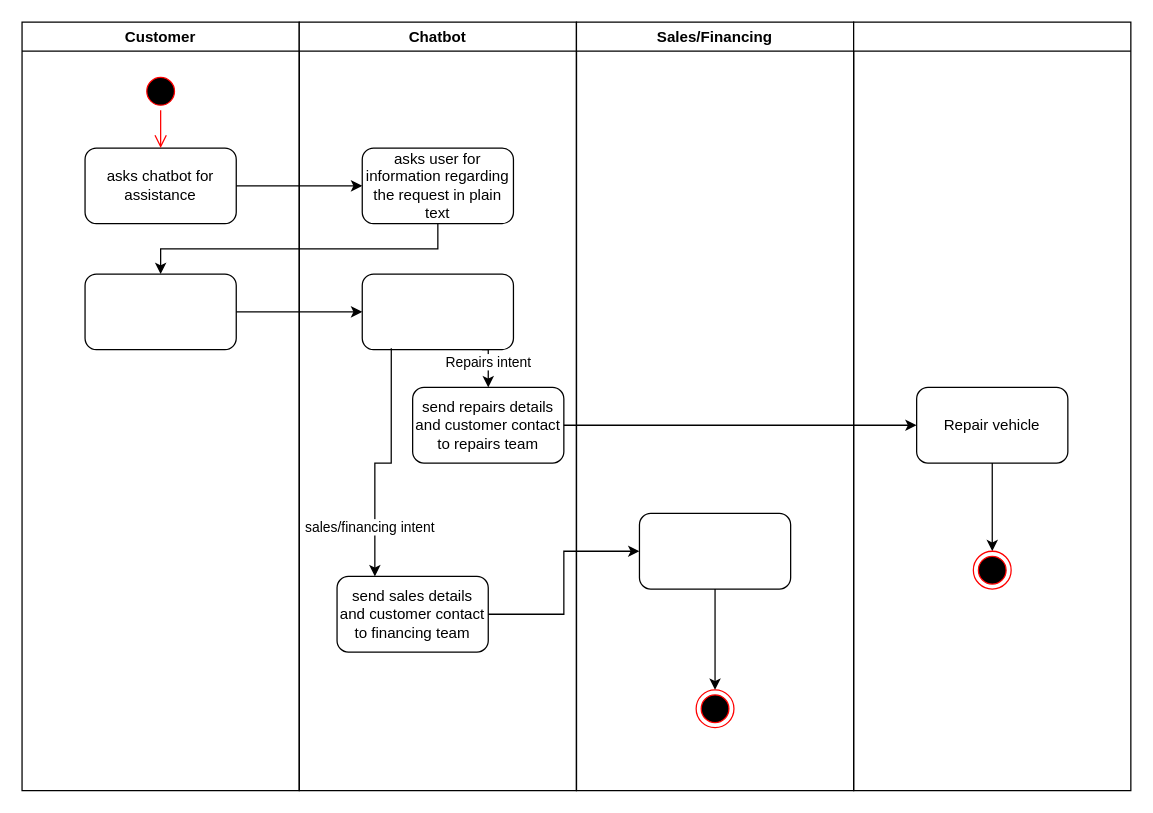
This 1153x813 diagram has some shape labels left out. Here are the shapes that lost their labels. From the top down, the box of each, then its label:
(84, 273, 236, 350): user provides information to chatbot
(361, 273, 513, 350): chatbot processes information and determines intent
(852, 21, 1131, 791): Repairs
(638, 512, 791, 589): contact customer regarding sale
